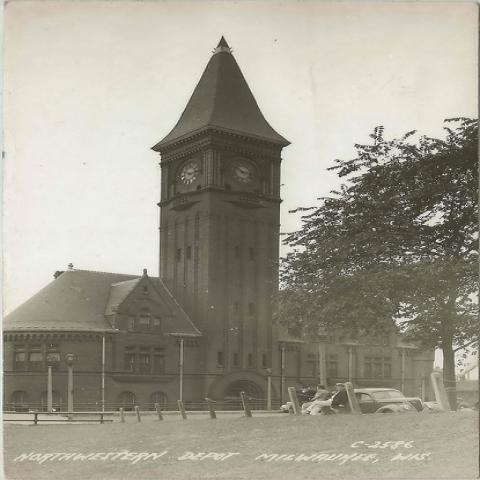car: (353, 388, 443, 413)
